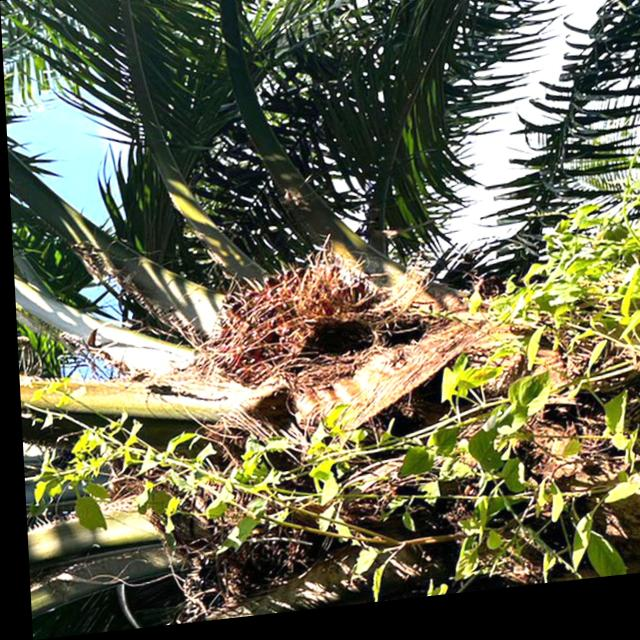almost: (190, 257, 361, 412)
